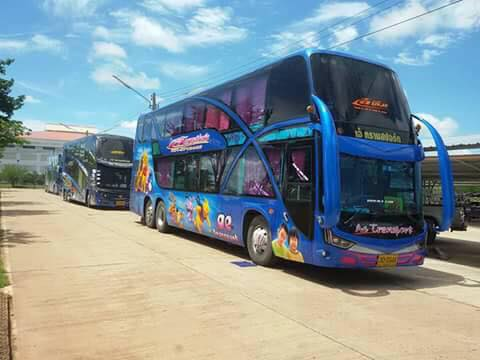bus: (128, 49, 426, 271)
